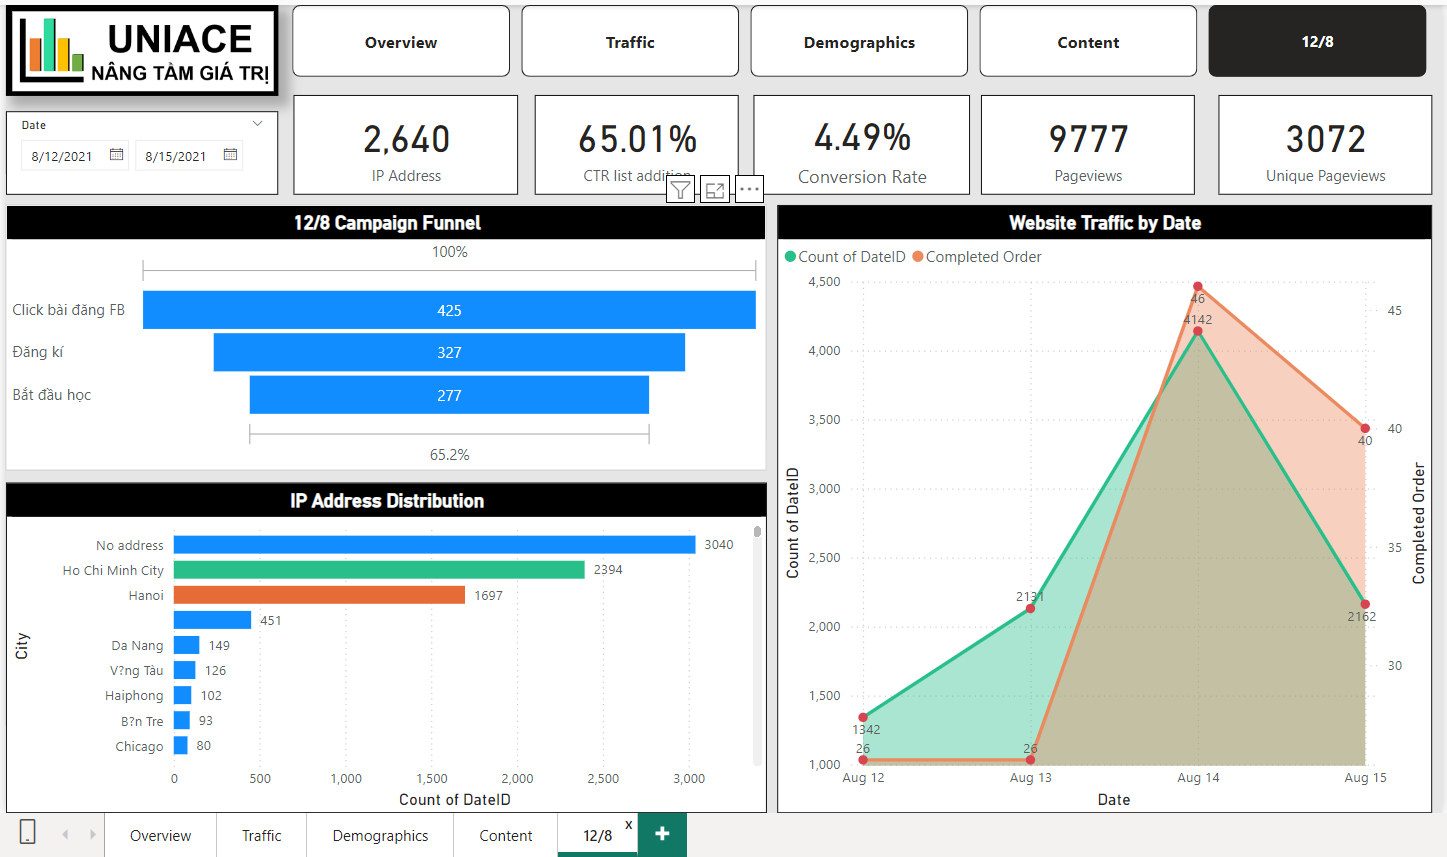

This screenshot's page, from the dashboard's own definition file:
{"tool":"powerbi","page":{"name":"12/8","canvas":[1280,720],"ordinal":4},"visuals":[{"type":"image","box":[0,0,242.7,80.9],"z":0},{"type":"pageNavigator","box":[255,0,1014.6,64.4],"z":1000},{"type":"areaChart","title":"Website Traffic by Date","fields":{"Category":["calendar.Date"],"Y":["CountNonNull(seo_analytics.DateID)"],"Y2":["seo_analytics.Count of name for Completed Order"]},"box":[687.1,178.6,582.9,541.4],"z":2000},{"type":"clusteredBarChart","title":"IP Address Distribution","fields":{"Y":["CountNonNull(seo_analytics.DateID)"],"Category":["location.City"]},"box":[0,425.4,677.6,294.4],"z":3000},{"type":"card","fields":{"Values":["Count(seo_analytics.LocationID)"]},"box":[255.7,80,200,88.6],"z":4000},{"type":"slicer","fields":{"Values":["calendar.Date"]},"box":[0,94.4,242.3,74.7],"z":5000},{"type":"card","fields":{"Values":["Count(seo_analytics.DateID)"]},"box":[1080,80,190,88.6],"z":6000},{"type":"card","fields":{"Values":["Measure Table.Conversion Rate"]},"box":[665.7,80,192.9,88.6],"z":7000},{"type":"card","fields":{"Values":["Measure Table.CTR list addition"]},"box":[471.4,80,181.4,88.6],"z":8000},{"type":"card","fields":{"Values":["CountNonNull(seo_analytics.DateID)"]},"box":[868.6,80,190,88.6],"z":9000},{"type":"funnel","title":"12/8 Campaign Funnel","fields":{"Y":["seo_analytics.Count of DateID for Visitor_Step1","seo_analytics.Count of DateID for Visitor_Step2","seo_analytics.Count of DateID for Subcriber"]},"box":[0,178.6,677.1,235.7],"z":10000}]}

Visuals, with their boxes on the page's 1280x720 design canvas (x1, y1, x2, y2). These are canvas units, not pixel positions in the 1447x857 screenshot, which may show the page scaled, cropped or inside an application window:
image: BBox(0, 0, 243, 81)
pageNavigator: BBox(255, 0, 1270, 64)
"Website Traffic by Date" areaChart: BBox(687, 179, 1270, 720)
"IP Address Distribution" clusteredBarChart: BBox(0, 425, 678, 720)
card - Count(seo_analytics.LocationID): BBox(256, 80, 456, 169)
slicer - calendar.Date: BBox(0, 94, 242, 169)
card - Count(seo_analytics.DateID): BBox(1080, 80, 1270, 169)
card - Measure Table.Conversion Rate: BBox(666, 80, 859, 169)
card - Measure Table.CTR list addition: BBox(471, 80, 653, 169)
card - CountNonNull(seo_analytics.DateID): BBox(869, 80, 1059, 169)
"12/8 Campaign Funnel" funnel: BBox(0, 179, 677, 414)
